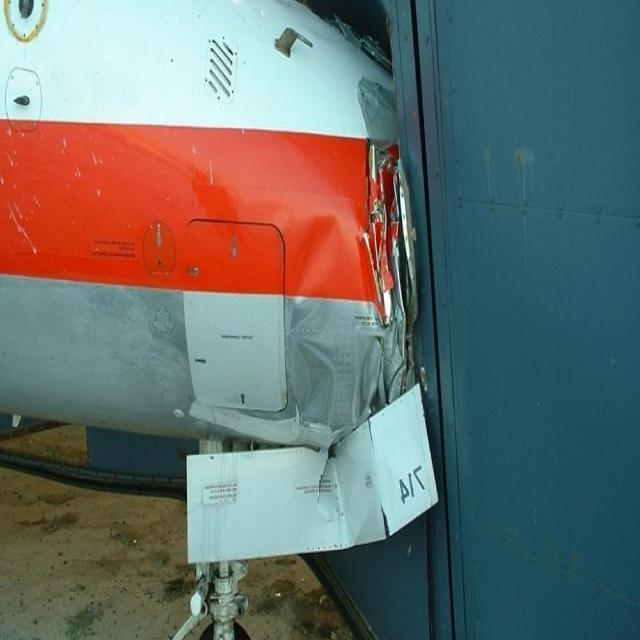crack: (363, 139, 417, 387)
dent: (289, 423, 386, 551), (291, 216, 346, 427)
